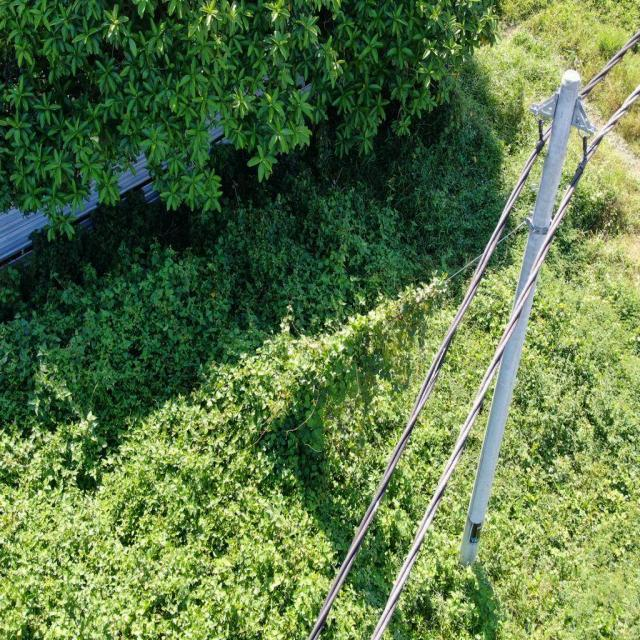critical vegetation: (140, 262, 458, 476)
